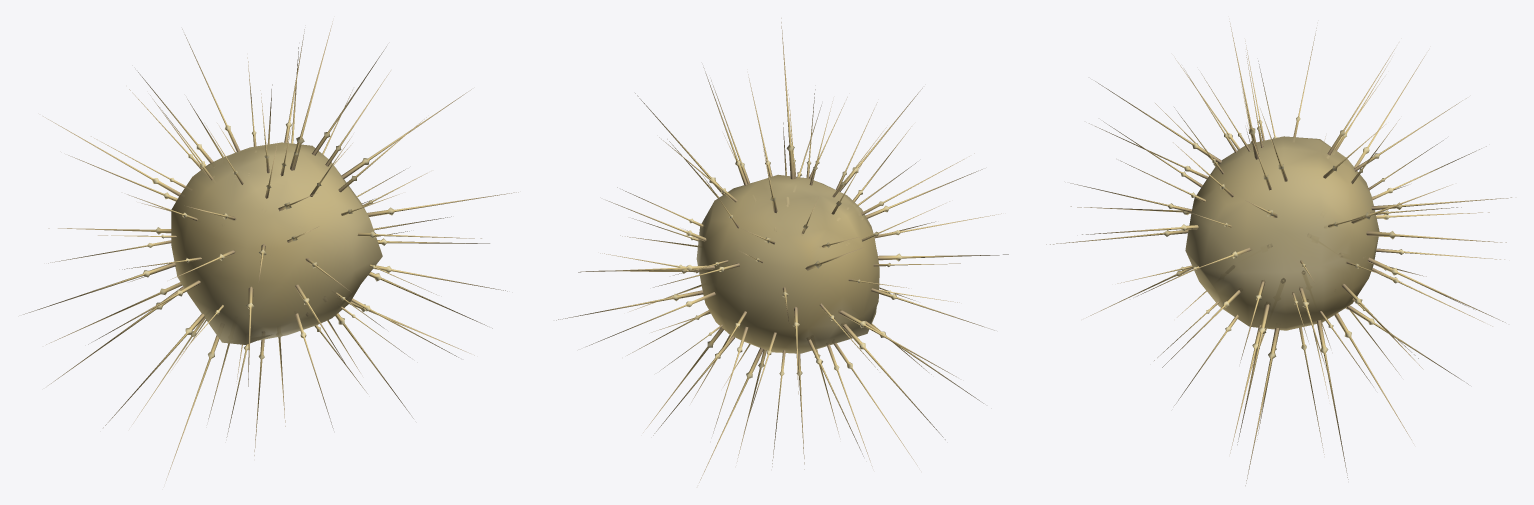
File: microscopic-plankton-glass-skeleton-plankton_v1.glb
3 renders of one model, left to right at view 1: azimuth 30°, elevation 25°; view 2: azimuth 150°, elevation 25°; view 3: azimuth 270°, elevation 25°, orthographic. The views are drawn at different scales.
Parts seen in each view (by area): view 1: Glass Skeleton Plankton.001, Glass Skeleton Plankton; view 2: Glass Skeleton Plankton.001, Glass Skeleton Plankton; view 3: Glass Skeleton Plankton.001, Glass Skeleton Plankton.
Boxes of the visible parts, box(x1,y1,x2,y2) form: Glass Skeleton Plankton.001: box(171, 142, 382, 344); Glass Skeleton Plankton: box(23, 21, 518, 480); Glass Skeleton Plankton.001: box(696, 174, 879, 353); Glass Skeleton Plankton: box(556, 18, 1008, 482); Glass Skeleton Plankton.001: box(1185, 136, 1379, 330); Glass Skeleton Plankton: box(1046, 21, 1511, 485).
Bounding box in the file's own units: 0.0998 × 0.1 × 0.0965.
